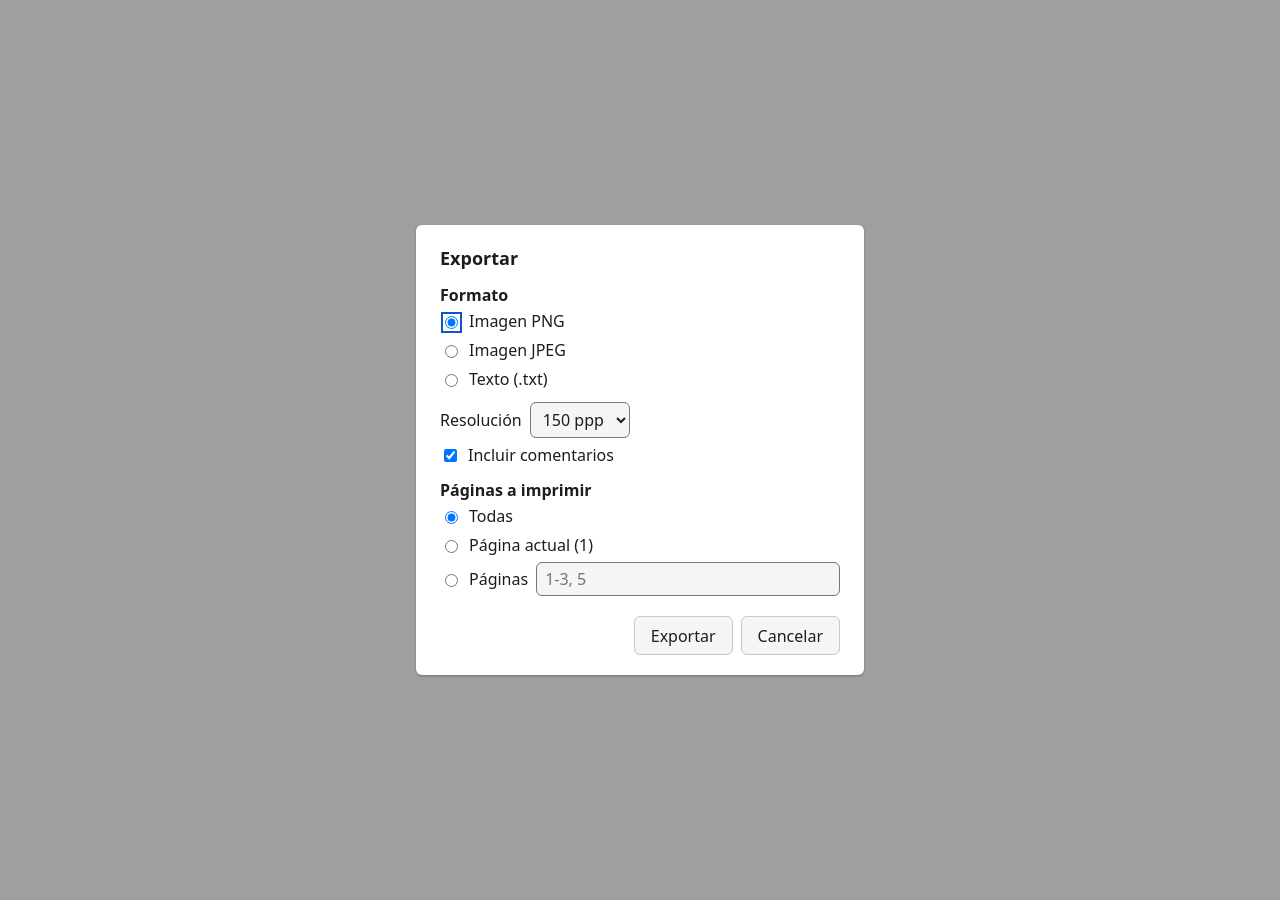
Test: ExportDialog › para texto ocultan la resolución y los comentarios
Expected: the dropdown labelled "Resolución" is shown, left=530, top=402, right=630, bottom=438
Expected: the checkbox labelled "Incluir comentarios" is shown, left=444, top=449, right=457, bottom=462
What coordinates should you click on to do the following:
click the radio button labelled "Texto (.txt)"
I would click on:
 (452, 380)
Its box is left=445, top=374, right=458, bottom=387.
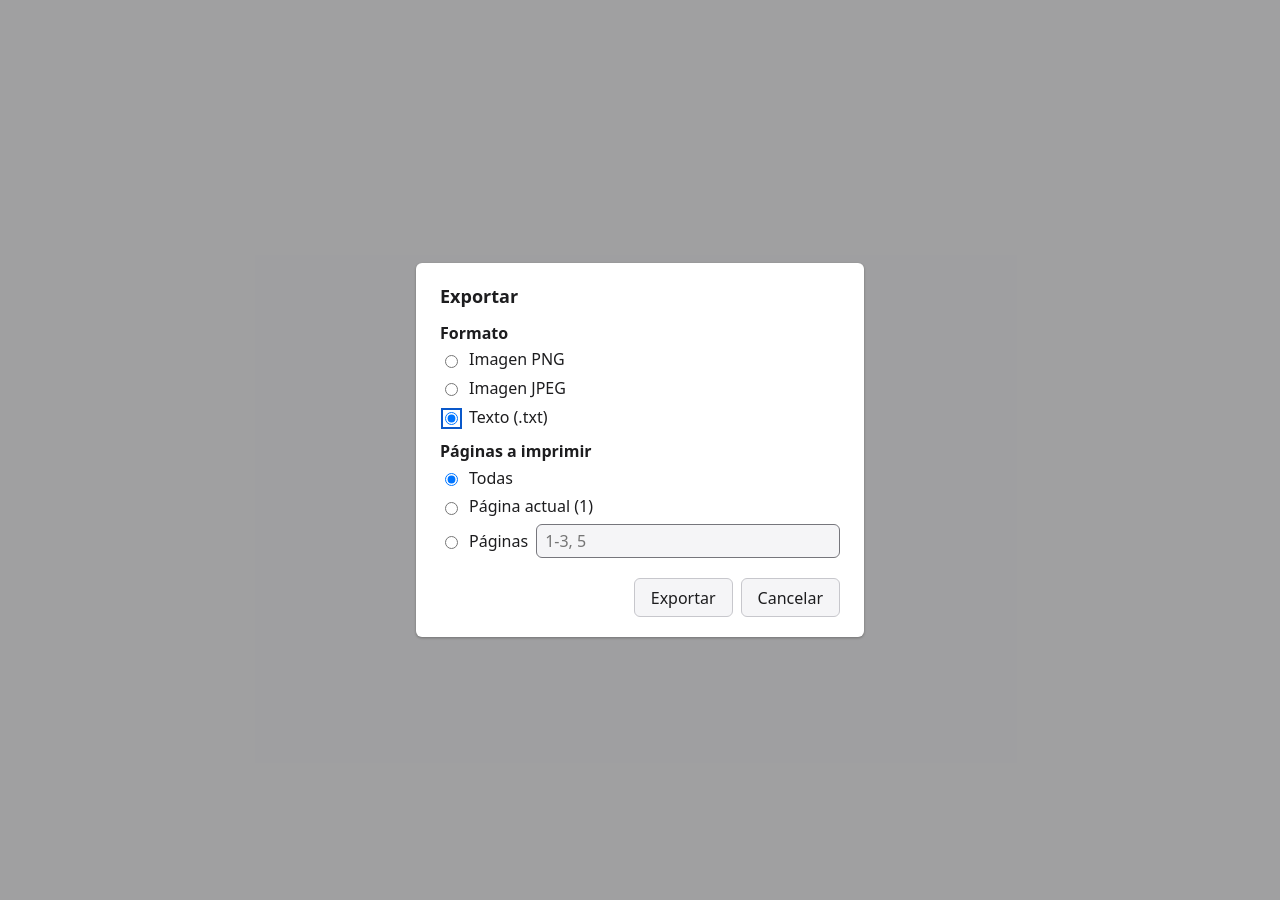
Expected: the label "Resolución" is gone
Expected: the label "Incluir comentarios" is gone
